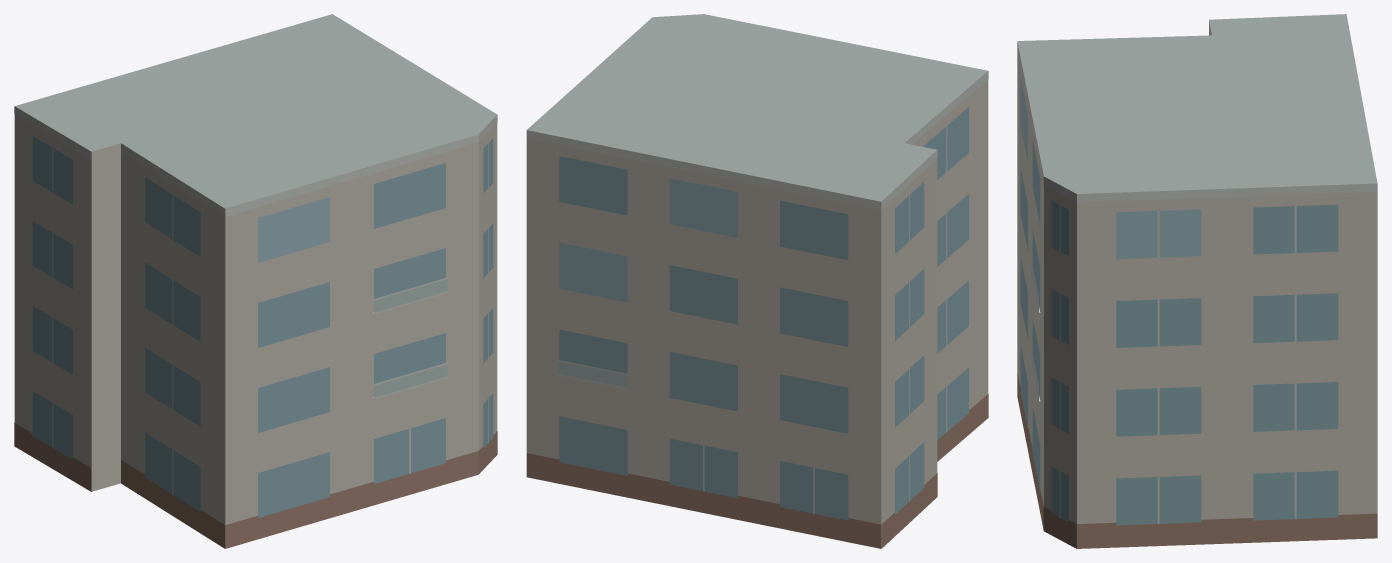
The model's file is survey-upis-32562594.glb.
3 renders of one model, left to right at view 1: azimuth 30°, elevation 25°; view 2: azimuth 150°, elevation 25°; view 3: azimuth 270°, elevation 25°, orthographic. The views are drawn at different scales.
Visible parts, largest first — view 1: survey-upis-32562594.tmp; view 2: survey-upis-32562594.tmp; view 3: survey-upis-32562594.tmp.
Part boxes in pixels (x1,y1,x2,y2): survey-upis-32562594.tmp: [14, 14, 497, 548]; survey-upis-32562594.tmp: [526, 14, 988, 548]; survey-upis-32562594.tmp: [1017, 14, 1377, 548].
Bounding box in the file's own units: 11.11 × 10.2 × 9.4.
